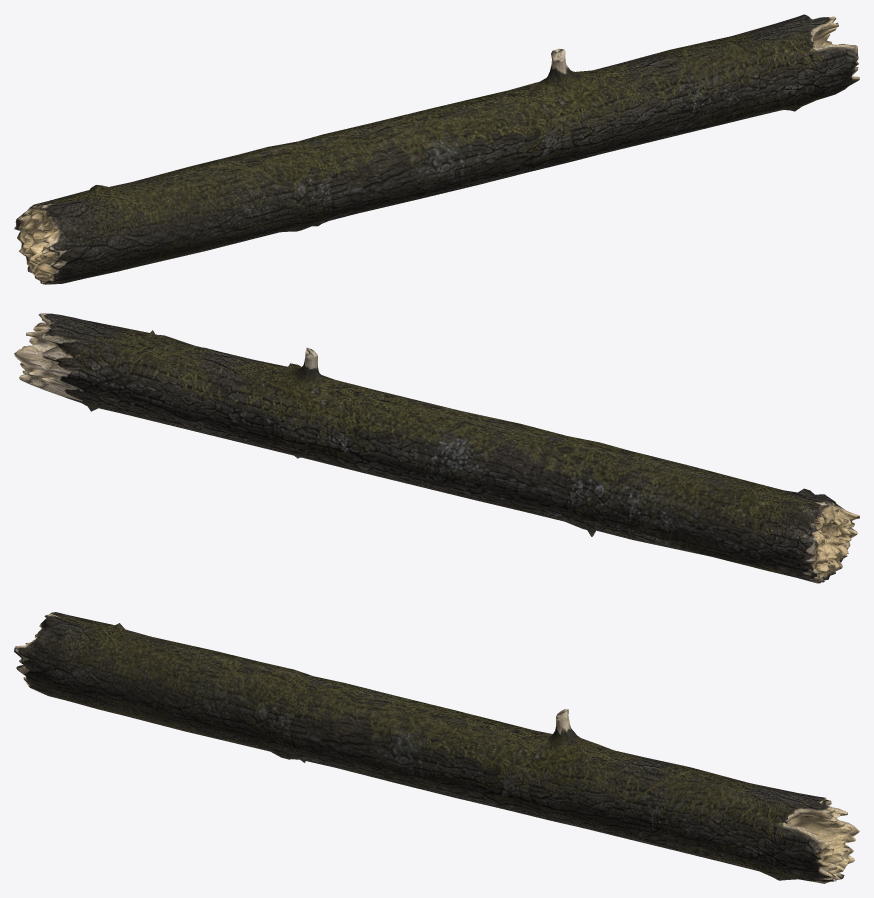
The model's file is fallen_log.fbx.
The picture shows the model from 3 angles, top to bottom: view 1: azimuth 30°, elevation 25°; view 2: azimuth 150°, elevation 25°; view 3: azimuth 330°, elevation 25°; orthographic projection.
Parts seen in each view (by area): view 1: Mesh_0; view 2: Mesh_0; view 3: Mesh_0.
Boxes of the visible parts, x1=… form: Mesh_0: x1=14, y1=14, x2=859, y2=284; Mesh_0: x1=14, y1=313, x2=859, y2=583; Mesh_0: x1=14, y1=612, x2=859, y2=883.
Size of the model in its own units: 95.36 by 12.65 by 8.94.
Materials: 1 (1 with a texture image).
